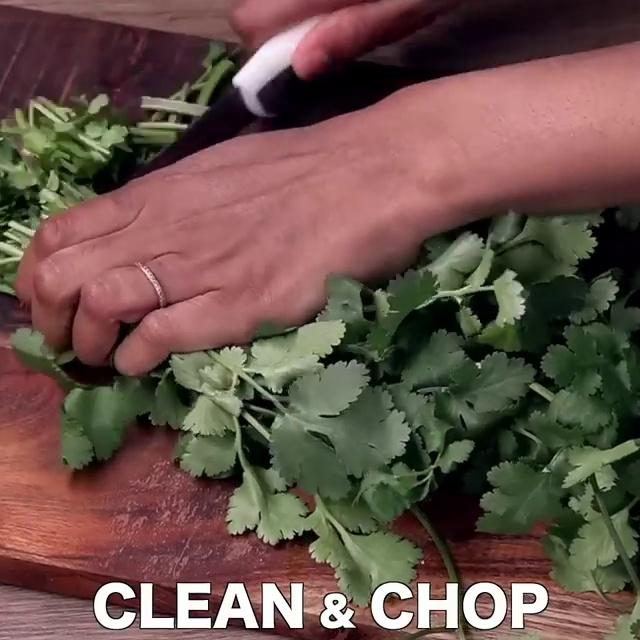cilantro: (327, 288, 640, 581)
